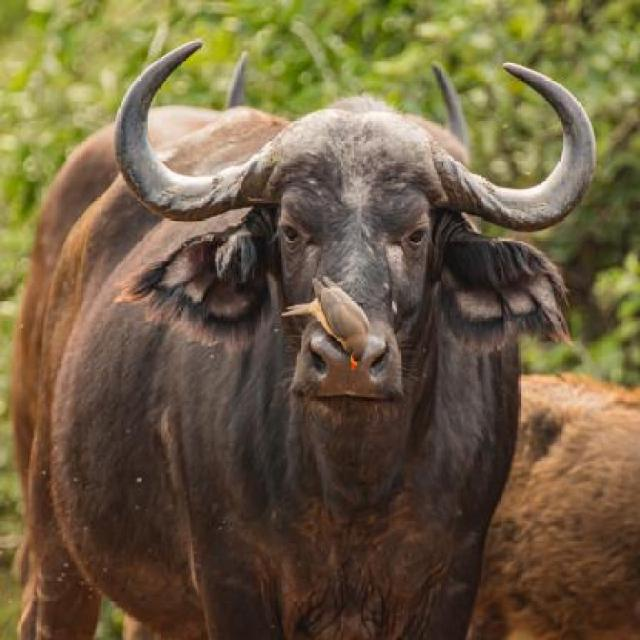buffalo: (110, 46, 593, 503)
